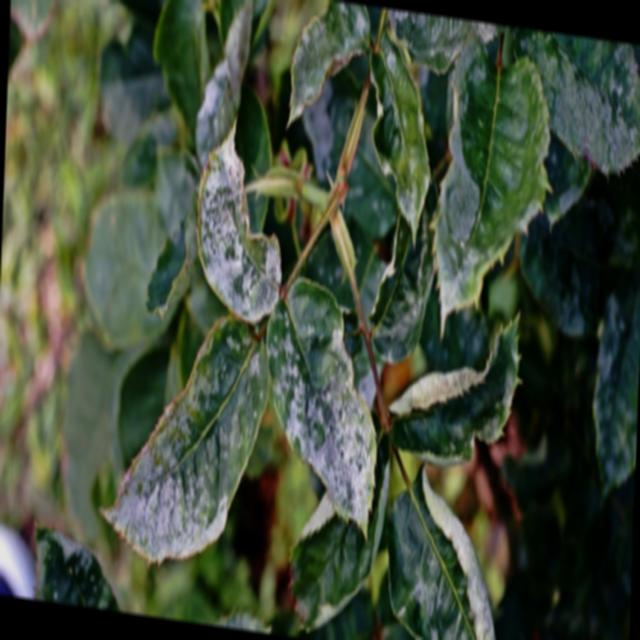Powdery Mildew: (98, 313, 270, 567), (266, 287, 378, 541), (189, 136, 289, 324)
